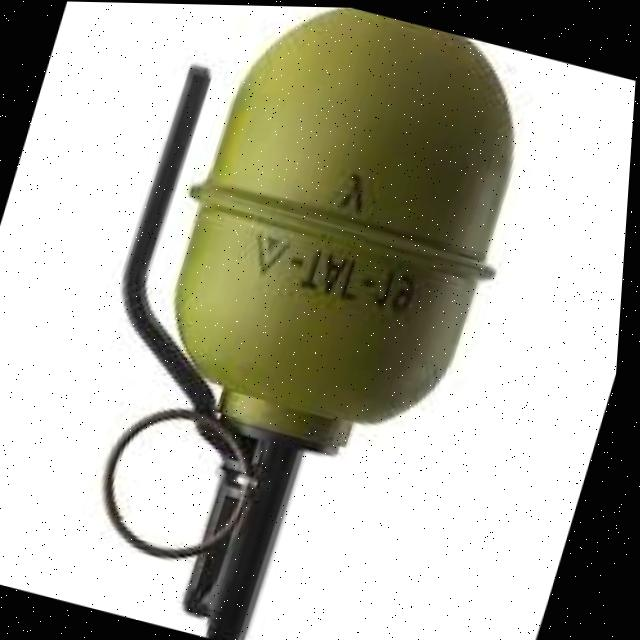grenade: (24, 1, 570, 640)
